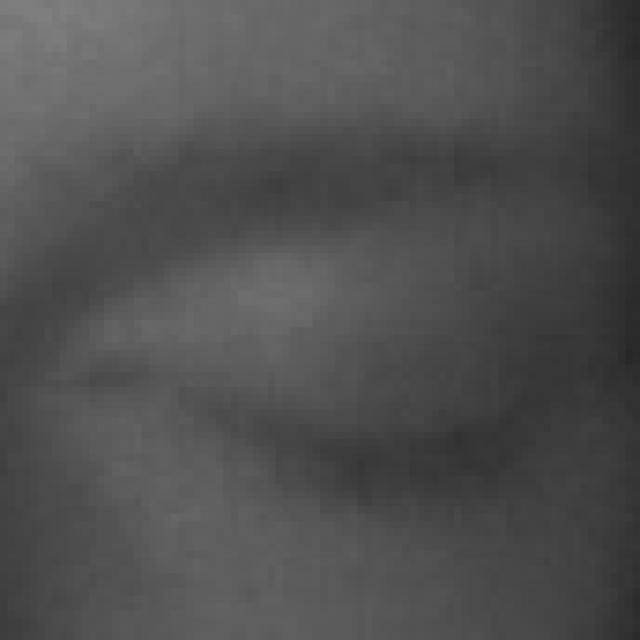Eyeclosed: (222, 271, 523, 640)
